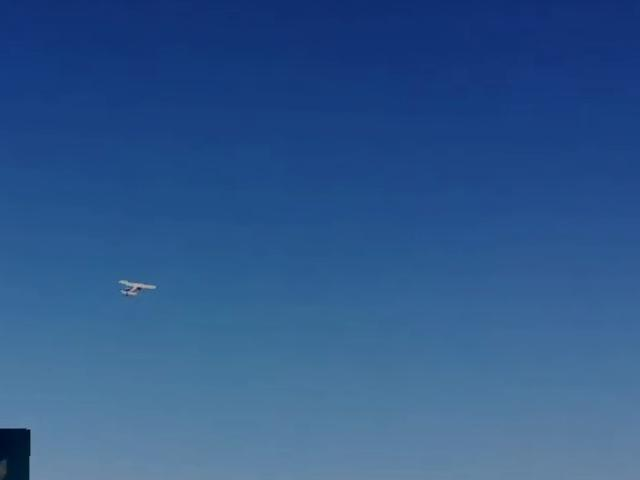Airplane: (116, 276, 160, 303)
